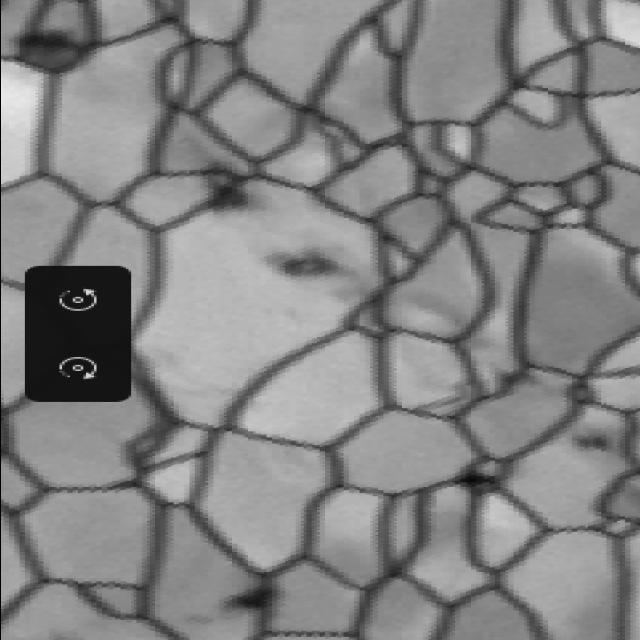good_void: (21, 27, 90, 68), (264, 252, 347, 286), (223, 581, 280, 616), (203, 179, 258, 213), (454, 473, 508, 498), (569, 432, 613, 456), (182, 612, 217, 628)
